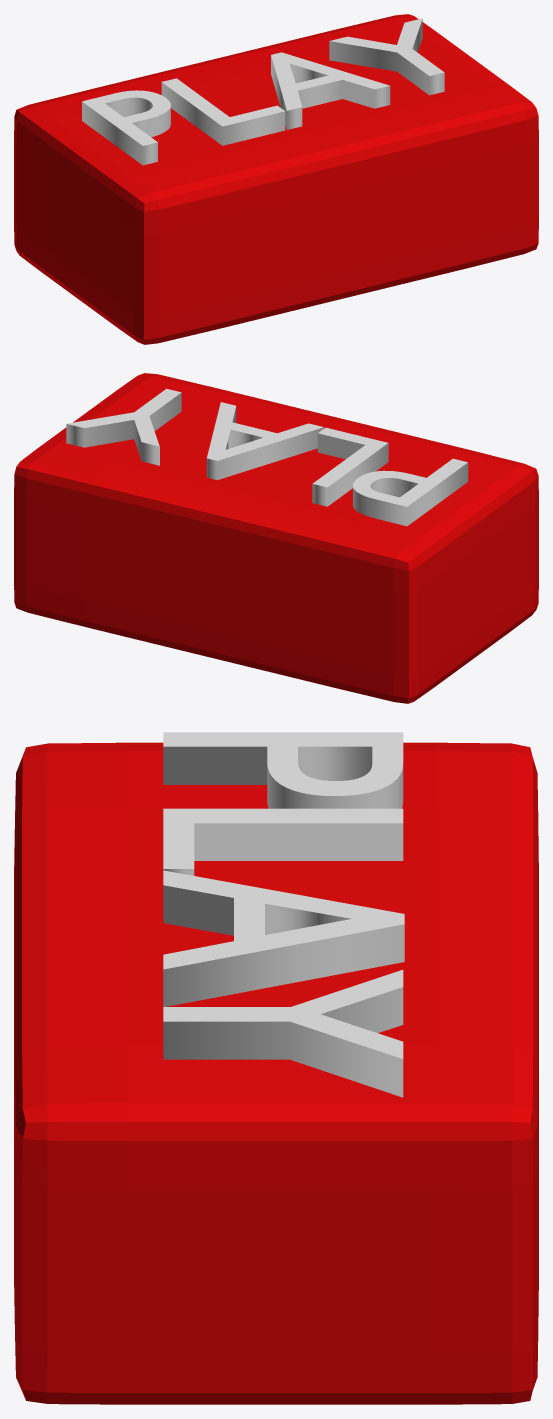
The model's file is play.fbx.
3 renders of one model, top to bottom at view 1: azimuth 30°, elevation 25°; view 2: azimuth 150°, elevation 25°; view 3: azimuth 270°, elevation 25°, orthographic. The views are drawn at different scales.
Parts seen in each view (by area): view 1: Cube, Text; view 2: Cube, Text; view 3: Cube, Text.
Boxes of the visible parts, left/top/right/bottom form: Cube: left=14, top=14, right=538, bottom=344; Text: left=82, top=18, right=444, bottom=165; Cube: left=14, top=373, right=538, bottom=703; Text: left=66, top=388, right=468, bottom=526; Cube: left=14, top=742, right=538, bottom=1404; Text: left=163, top=732, right=404, bottom=1097.
Bounding box in the file's own units: 259 × 104 × 149.
